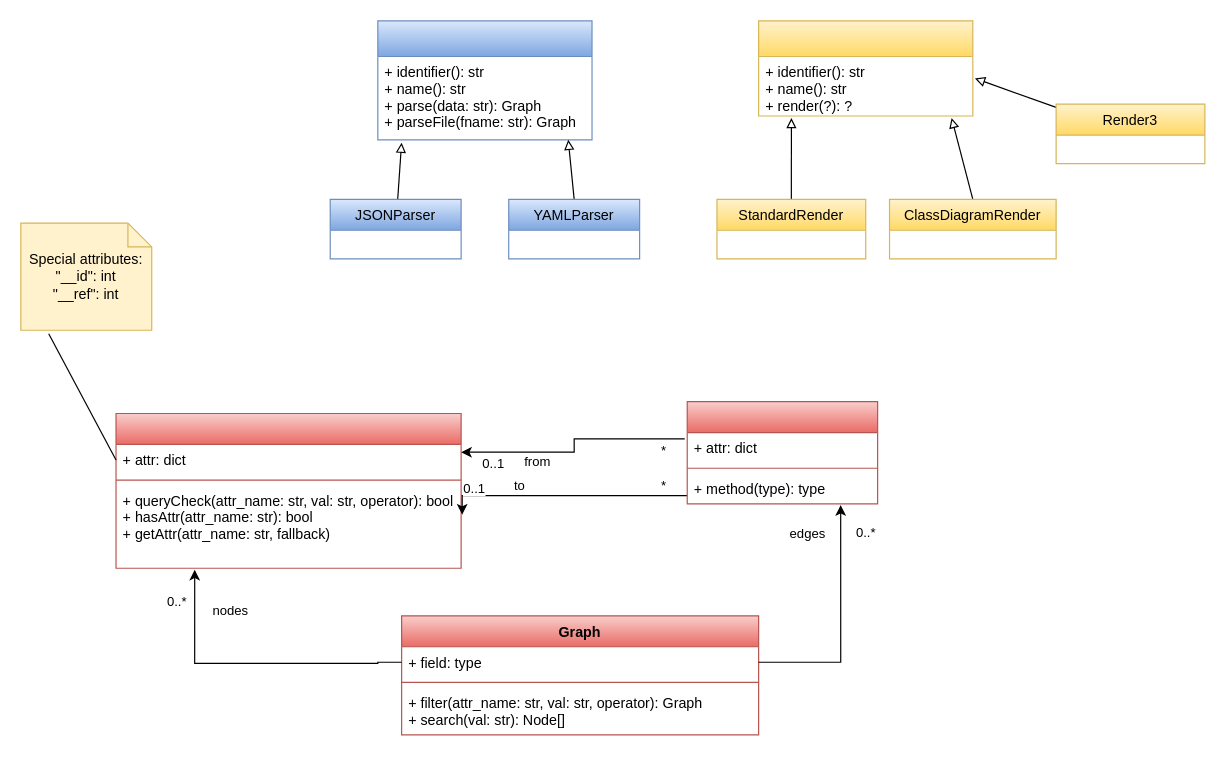
Some shapes in this 1226 by 759 pixel diagram are drawn without their labels. Each missing label, with the box of its shape:
Edge: (686, 400, 878, 504)
Node: (115, 412, 461, 568)
«interface» DataParserBase: (377, 20, 592, 140)
«interface» GraphRenderParse: (757, 20, 973, 116)
